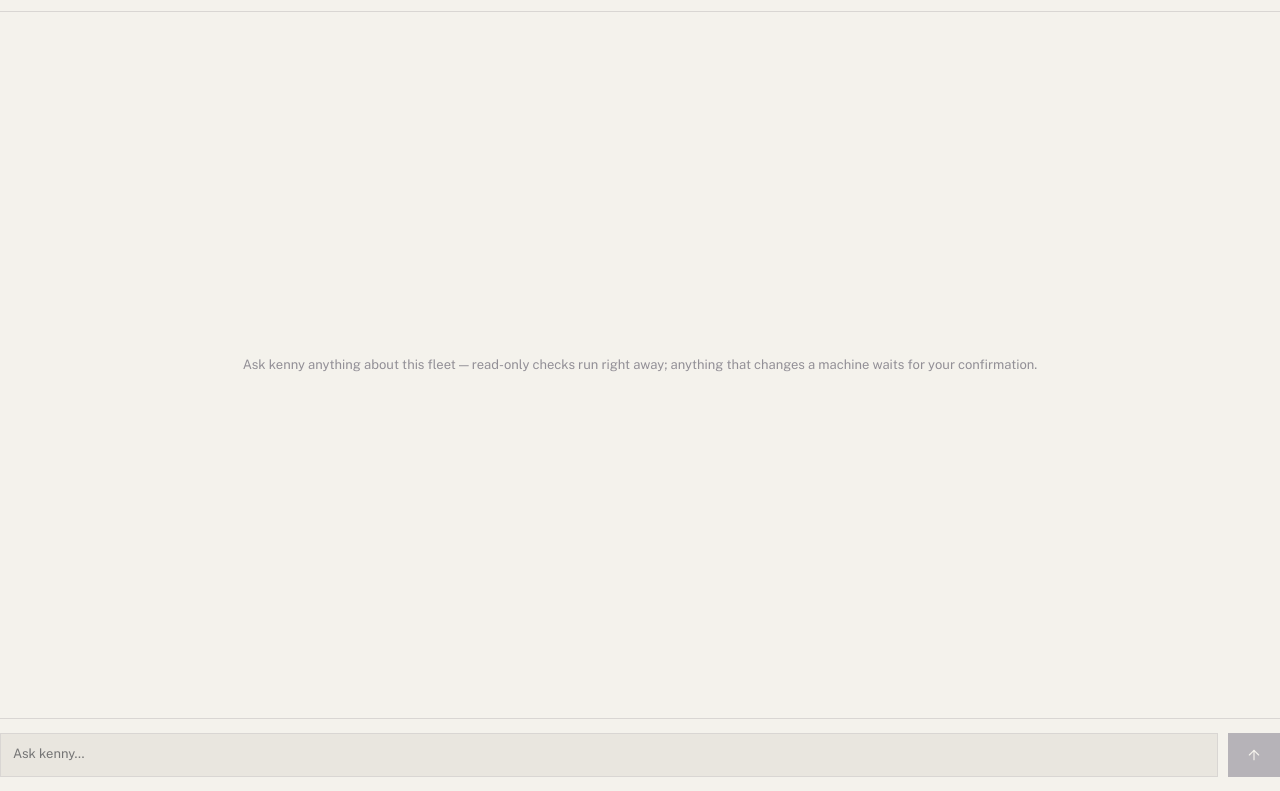
Test: AskKennyDrawer — the confirm gate is non-dismissible › only resolves through CONFIRM & RUN / CANCEL, each posting to the confirm stream
(page scrolled)
Type "do the risky thing" into the text box named "Message kenny". click: (609, 755)
box: top-left (0, 733), bottom-right (1218, 777)
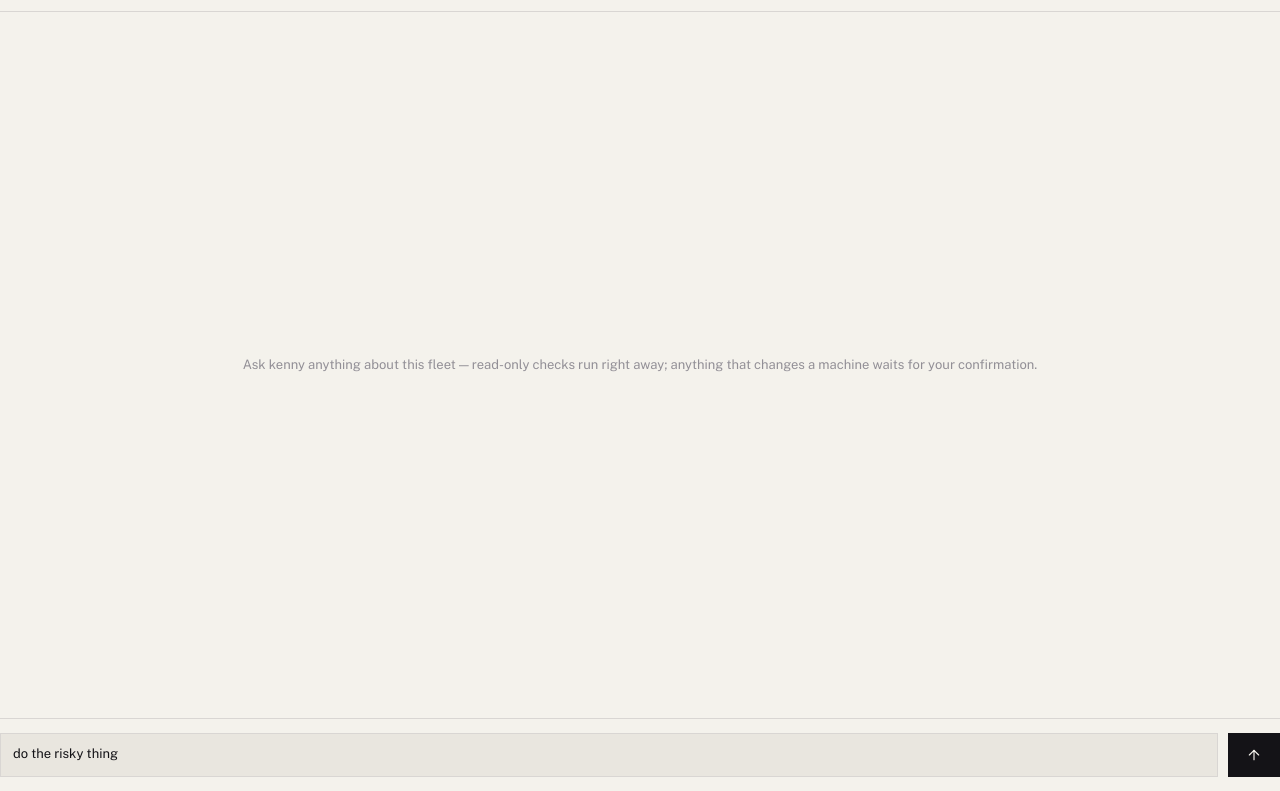
Click the button named "Send". click: (1254, 755)
box: top-left (1228, 733), bottom-right (1279, 777)
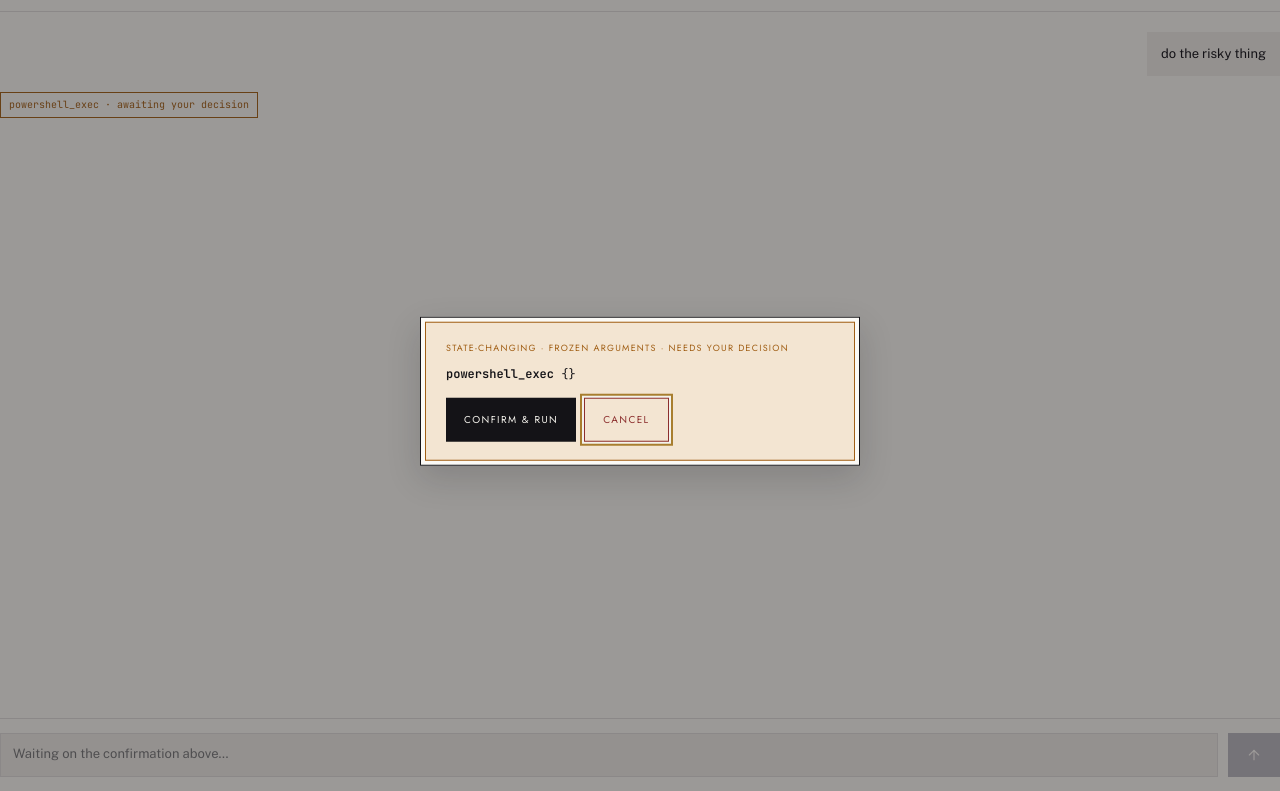
expect the button "CANCEL" is shown: met
Click the button "CANCEL". click: (626, 419)
box: top-left (584, 397), bottom-right (668, 441)
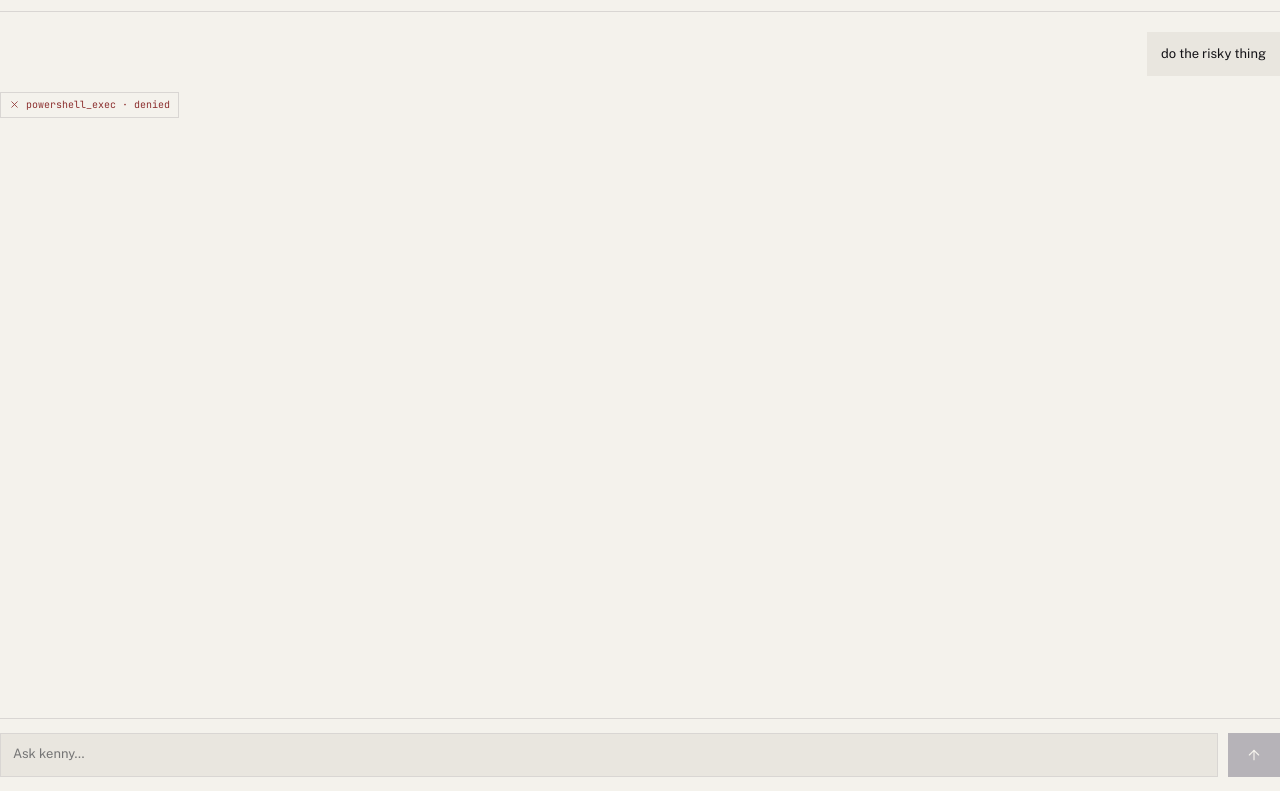
expect the button "CONFIRM & RUN" is gone: met
